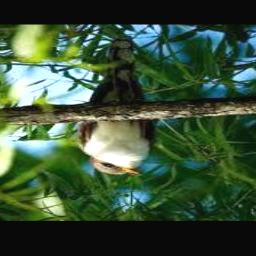Cuckoo: (77, 38, 154, 176)
